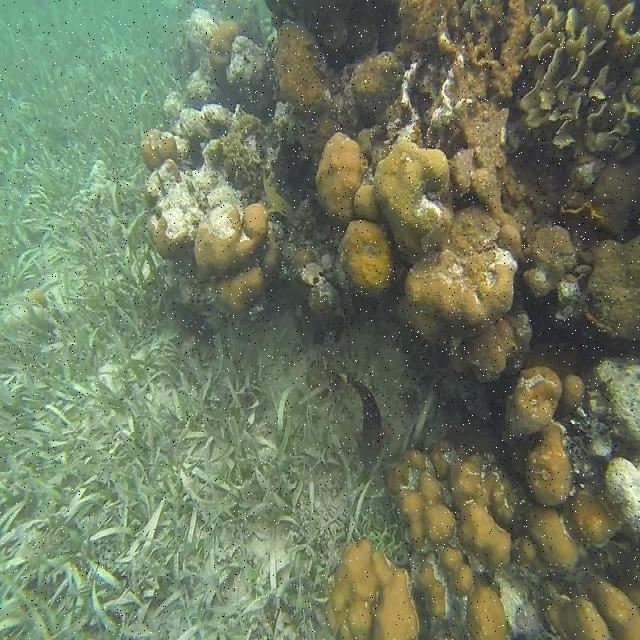fish: (340, 372, 386, 485)
reefs: (139, 1, 639, 639)
